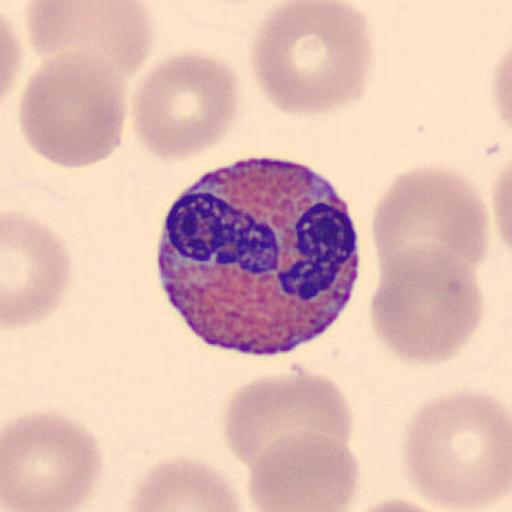RBC: (368, 240, 486, 367), (372, 162, 490, 288), (222, 368, 355, 478), (249, 0, 375, 116), (399, 386, 512, 511), (18, 48, 127, 168), (129, 50, 242, 162), (2, 407, 104, 512), (26, 0, 156, 82), (245, 430, 362, 512), (2, 210, 72, 330), (127, 455, 245, 512), (0, 6, 23, 106), (490, 161, 512, 264), (490, 44, 512, 140), (339, 495, 459, 512), (492, 52, 512, 128)
WBC: (156, 156, 362, 356)
